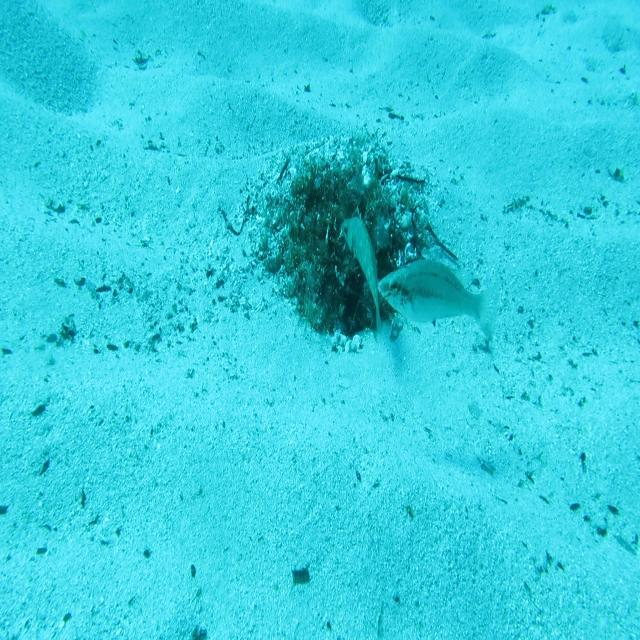FAN: (339, 204, 385, 338)
core_nest: (317, 188, 366, 222)
female: (377, 252, 502, 352)
nest: (240, 124, 442, 362)
vegetation: (291, 565, 310, 589)
